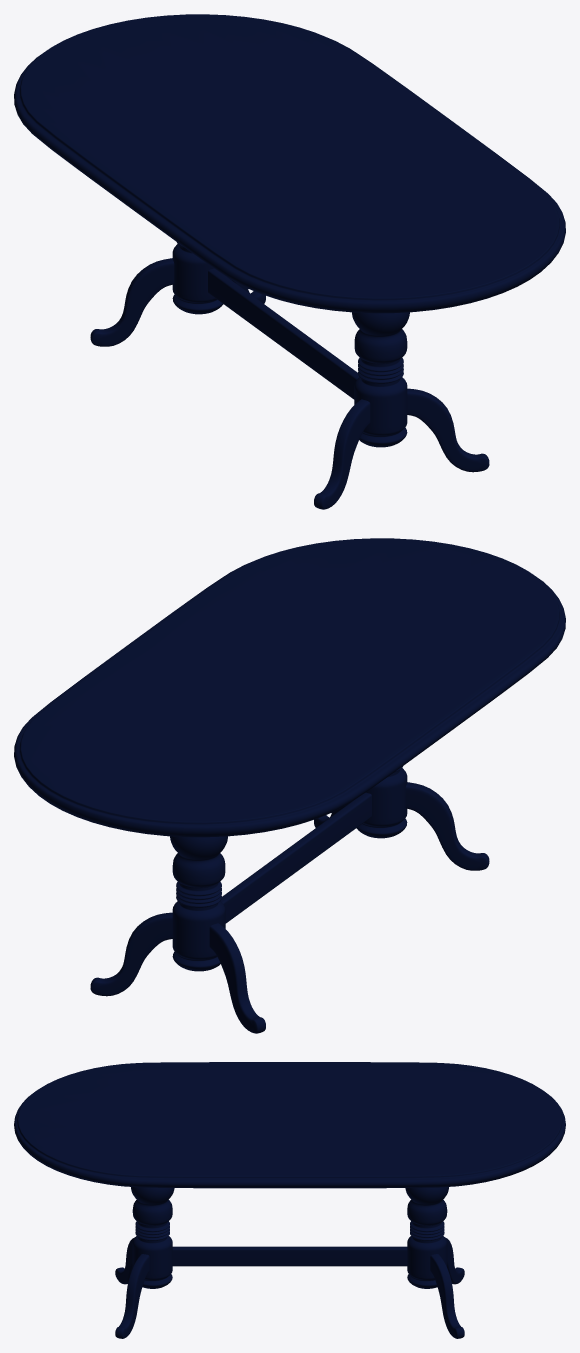
The model's file is Table.fbx.
3 views of the same model, one above another, from view 1: azimuth 30°, elevation 25°; view 2: azimuth 150°, elevation 25°; view 3: azimuth 270°, elevation 25° (orthographic). The views are drawn at different scales.
Parts seen in each view (by area): view 1: Dining table; view 2: Dining table; view 3: Dining table.
Boxes of the visible parts, x1,y1,x2,y2 form: Dining table: [14, 14, 565, 509]; Dining table: [14, 538, 565, 1033]; Dining table: [14, 1062, 565, 1338].
Size of the model in its own units: 175 by 130 by 340.
